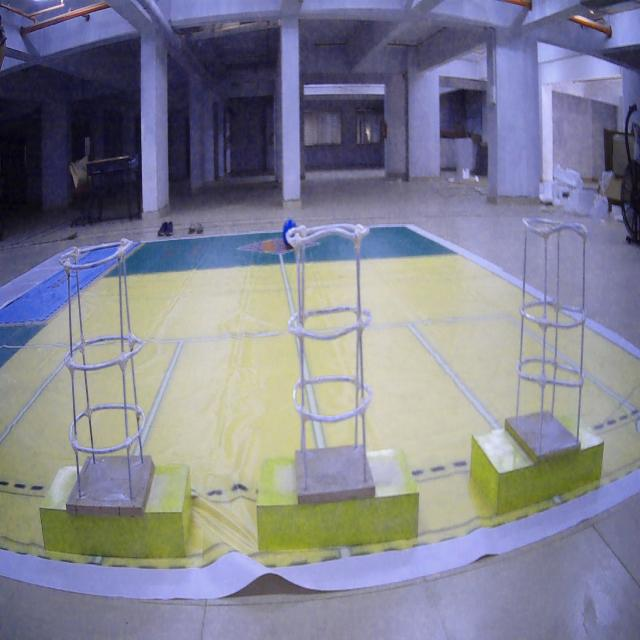silo: (274, 207, 394, 508), (54, 221, 158, 514), (501, 200, 594, 479)
